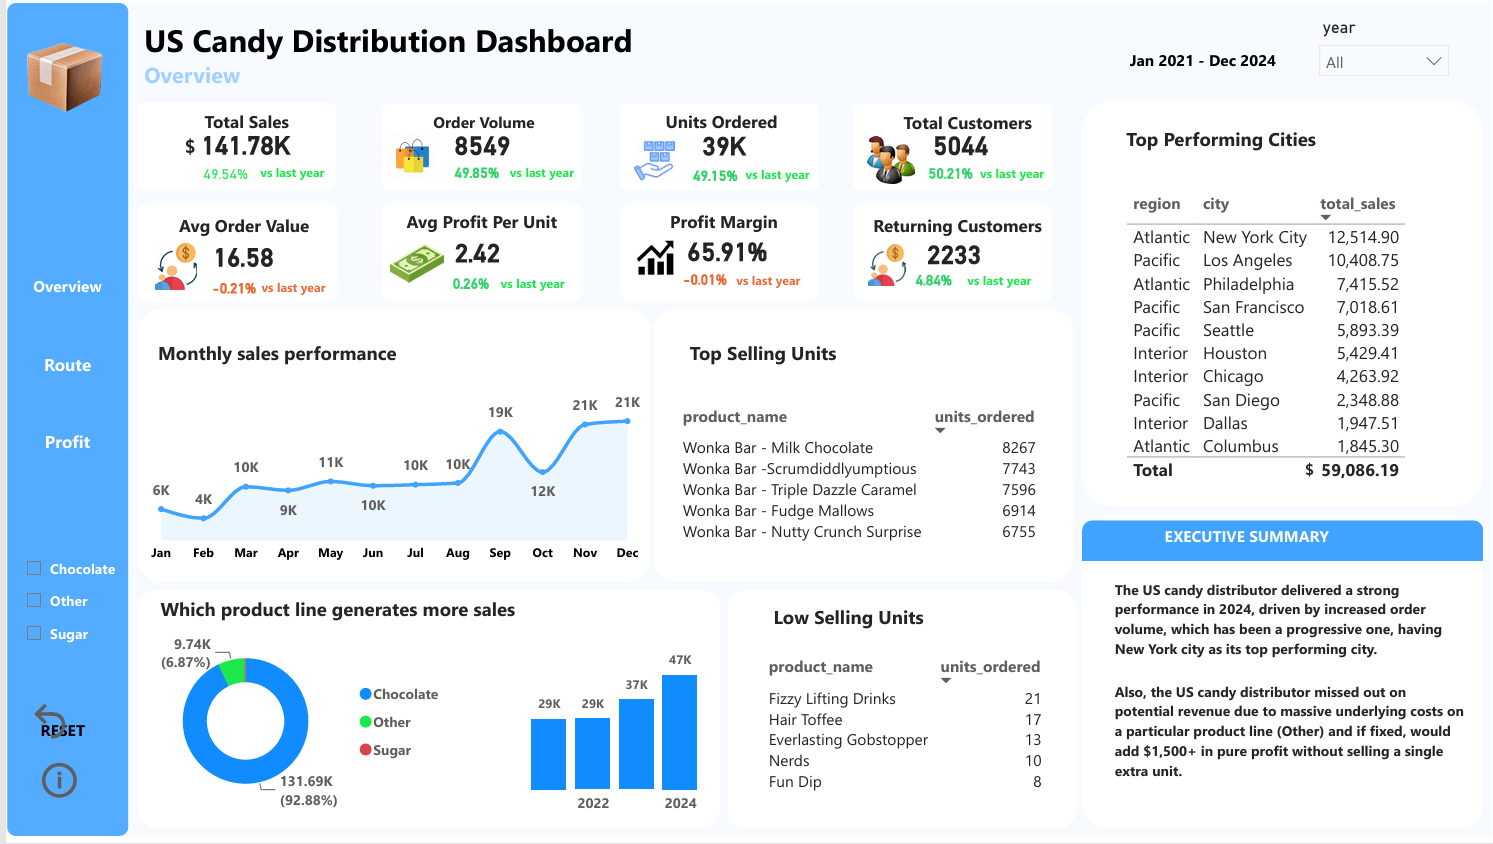

Layout of this report page (visuals, bound fields, positions):
{"tool":"powerbi","page":{"name":"Overview","canvas":[1280,720],"ordinal":0},"visuals":[{"type":"shape","box":[113.5,86.9,171.1,75.4],"z":0},{"type":"shape","box":[0,0,106.4,720],"z":1000},{"type":"textbox","box":[113.6,9.1,508.2,49.1],"z":2000},{"type":"textbox","box":[113.6,44.5,130,40.9],"z":3000},{"type":"shape","box":[113.6,507.3,500.9,205.5],"z":4000},{"type":"shape","box":[324.5,88.2,170.9,74.5],"z":5000},{"type":"shape","box":[528.9,88.2,170.9,74.5],"z":6000},{"type":"shape","box":[528.9,173.7,170.9,83.6],"z":7000},{"type":"shape","box":[324.5,173.7,170.9,83.6],"z":8000},{"type":"shape","box":[113.5,173.7,170.9,83.6],"z":9000},{"type":"shape","box":[729.8,88.2,170.9,74.5],"z":10000},{"type":"shape","box":[729.8,173.7,170.9,83.6],"z":11000},{"type":"shape","box":[927.3,85.5,345.5,350],"z":12000},{"type":"shape","box":[927.3,446.4,345.5,266.4],"z":13000},{"type":"shape","box":[621.8,507.3,300,205.5],"z":14000},{"type":"shape","box":[113.6,265.5,440.9,234.5],"z":15000},{"type":"shape","box":[558.2,265.5,360.9,234.5],"z":16000},{"type":"lineChart","fields":{"Category":["calendar.month"],"Y":["kpi.total_sales"]},"box":[113.6,304.5,440.9,187.3],"z":17000},{"type":"card","fields":{"Values":["kpi.total_sales"]},"box":[140.9,88.2,130.9,70.9],"z":18000},{"type":"card","fields":{"Values":["kpi.growth_rate"]},"box":[157.3,135.5,64.5,25.5],"z":19000},{"type":"card","fields":{"Values":["kpi.Order_volume"]},"box":[353.6,100.9,112.7,45.5],"z":20000},{"type":"card","fields":{"Values":["kpi.units_sold"]},"box":[554.5,94.5,127.3,58.2],"z":21000},{"type":"textbox","box":[166.4,88.2,121.8,46.4],"z":22000},{"type":"slicer","fields":{"Values":["calendar.year"]},"box":[1120.9,9.1,131.8,65.5],"z":23000},{"type":"textbox","box":[213.6,131.8,74.5,29.1],"z":24000},{"type":"textbox","box":[362.7,90,132.7,33.6],"z":25000},{"type":"textbox","box":[566.6,173.8,110,35.5],"z":26000},{"type":"donutChart","fields":{"Category":["dim_products.division"],"Y":["kpi.total_sales"]},"box":[103.6,539.1,282.7,161.8],"z":27000},{"type":"tableEx","fields":{"Values":["dim_products.product_name","kpi.units_ordered"]},"box":[571.8,342.7,336.4,149.1],"z":28000},{"type":"textbox","box":[583.6,287.3,178.2,33.6],"z":29000},{"type":"card","fields":{"Values":["problem_statement.avg_profit_per_unit"]},"box":[339.6,195.1,132.1,42.6],"z":30000},{"type":"card","fields":{"Values":["problem_statement.profit_margin"]},"box":[568.4,188.9,106.4,52.3],"z":31000},{"type":"card","fields":{"Values":["kpi.Total_customer"]},"box":[772.3,105.5,100.2,35.5],"z":32000},{"type":"card","fields":{"Values":["kpi.aov"]},"box":[144,189,121,62],"z":33000},{"type":"tableEx","fields":{"Values":["dim_products.product_name","kpi.units_ordered"]},"box":[646.4,559.1,272.7,131.8],"z":34000},{"type":"textbox","box":[656.4,513.6,178.2,33.6],"z":35000},{"type":"textbox","box":[767.9,88.7,133,35.5],"z":36000},{"type":"textbox","box":[143.6,177.3,141,35.5],"z":37000},{"type":"textbox","box":[563.1,87.8,110,35.5],"z":38000},{"type":"textbox","box":[339.6,173.8,156.1,35.5],"z":39000},{"type":"textbox","box":[742.2,177.3,163.2,35.5],"z":40000},{"type":"tableEx","fields":{"Values":["fact_sales.region","fact_sales.city","kpi.total_sales"]},"box":[960.3,159.6,291.7,258],"z":41000},{"type":"textbox","box":[960.3,102,178.2,33.7],"z":42000},{"type":"textbox","box":[128.2,507.3,320,63.6],"z":43000},{"type":"columnChart","fields":{"Category":["calendar.year"],"Y":["kpi.total_sales"]},"box":[448.2,539.1,152.7,170],"z":44000},{"type":"textbox","box":[126.4,287.3,248.2,55.5],"z":45000},{"type":"slicer","fields":{"Values":["dim_products.division"]},"box":[4.5,469.1,97.3,110.9],"z":46000},{"type":"actionButton","box":[26.4,650.9,53.6,40],"z":47000},{"type":"textbox","box":[950,491.8,311.8,101.8],"z":48000},{"type":"textbox","box":[950,580,311.8,101.8],"z":49000},{"type":"shape","box":[927.3,447.3,345.5,35.5],"z":50000},{"type":"textbox","box":[992.7,447.3,194.5,35.5],"z":51000},{"type":"pageNavigator","box":[8.2,216.4,90.9,193.6],"z":52000},{"type":"textbox","box":[149.1,108.2,33.6,33.6],"z":53000},{"type":"textbox","box":[1113.6,389.1,33.6,28.2],"z":54000},{"type":"card","fields":{"Values":["kpi.aov perchange"]},"box":[164,233,65,31],"z":55000},{"type":"card","fields":{"Values":["kpi.ov pct_change"]},"box":[368,129,75,40],"z":56000},{"type":"card","fields":{"Values":["kpi.unit_ordered_pct_change"]},"box":[573,136,76,23],"z":57000},{"type":"card","fields":{"Values":["kpi.customer_pct_change"]},"box":[779,129,69,41],"z":58000},{"type":"card","fields":{"Values":["kpi.avg_profit_pct_change"]},"box":[364,231,73,27],"z":59000},{"type":"card","fields":{"Values":["kpi.profit_margin_pct_change"]},"box":[572,224,60,34],"z":60000},{"type":"textbox","box":[429,132,67,29],"z":61000},{"type":"textbox","box":[421,228,74,29],"z":62000},{"type":"textbox","box":[215,231,74,29],"z":63000},{"type":"textbox","box":[632,134,66,29],"z":64000},{"type":"textbox","box":[624,225,74,29],"z":65000},{"type":"textbox","box":[834,133,74,29],"z":66000},{"type":"image","box":[325.8,112.8,48.6,39.9],"z":67000},{"type":"image","box":[127.3,208.2,40,40],"z":68000},{"type":"image","box":[537.9,118.7,40.9,36],"z":69000},{"type":"image","box":[326.8,209.1,53.5,33.1],"z":70000},{"type":"image","box":[742.1,112.8,40.9,46.7],"z":71000},{"type":"card","fields":{"Values":["kpi.returning_customers"]},"box":[767,199.5,99.3,35.5],"z":72000},{"type":"textbox","box":[822.9,225.2,73.6,29.3],"z":73000},{"type":"card","fields":{"Values":["kpi.returning customer perctent"]},"box":[760.8,226.1,76.3,23.1],"z":74000},{"type":"image","box":[539.1,203.1,39.9,34.6],"z":75000},{"type":"image","box":[7.1,25.7,91.3,77.1],"z":76000},{"type":"textbox","box":[962.7,36.4,143.6,28.2],"z":77000},{"type":"image","box":[739.1,209.1,40,36.4],"z":78000},{"type":"actionButton","box":[18.2,600,61.8,40],"z":78001}]}

Visuals, with their boxes on the page's 1280x720 design canvas (x1, y1, x2, y2). These are canvas units, not pixel positions in the 1493x844 screenshot, which may show the page scaled, cropped or inside an application window:
shape: x1=114 y1=87 x2=285 y2=162
shape: x1=0 y1=0 x2=106 y2=720
textbox: x1=114 y1=9 x2=622 y2=58
textbox: x1=114 y1=44 x2=244 y2=85
shape: x1=114 y1=507 x2=614 y2=713
shape: x1=324 y1=88 x2=495 y2=163
shape: x1=529 y1=88 x2=700 y2=163
shape: x1=529 y1=174 x2=700 y2=257
shape: x1=324 y1=174 x2=495 y2=257
shape: x1=114 y1=174 x2=284 y2=257
shape: x1=730 y1=88 x2=901 y2=163
shape: x1=730 y1=174 x2=901 y2=257
shape: x1=927 y1=86 x2=1273 y2=436
shape: x1=927 y1=446 x2=1273 y2=713
shape: x1=622 y1=507 x2=922 y2=713
shape: x1=114 y1=266 x2=554 y2=500
shape: x1=558 y1=266 x2=919 y2=500
lineChart - calendar.month x kpi.total_sales: x1=114 y1=304 x2=554 y2=492
card - kpi.total_sales: x1=141 y1=88 x2=272 y2=159
card - kpi.growth_rate: x1=157 y1=136 x2=222 y2=161
card - kpi.Order_volume: x1=354 y1=101 x2=466 y2=146
card - kpi.units_sold: x1=554 y1=94 x2=682 y2=153
textbox: x1=166 y1=88 x2=288 y2=135
slicer - calendar.year: x1=1121 y1=9 x2=1253 y2=75
textbox: x1=214 y1=132 x2=288 y2=161
textbox: x1=363 y1=90 x2=495 y2=124
textbox: x1=567 y1=174 x2=677 y2=209
donutChart - dim_products.division x kpi.total_sales: x1=104 y1=539 x2=386 y2=701
tableEx - dim_products.product_name x kpi.units_ordered: x1=572 y1=343 x2=908 y2=492
textbox: x1=584 y1=287 x2=762 y2=321
card - problem_statement.avg_profit_per_unit: x1=340 y1=195 x2=472 y2=238
card - problem_statement.profit_margin: x1=568 y1=189 x2=675 y2=241
card - kpi.Total_customer: x1=772 y1=106 x2=872 y2=141
card - kpi.aov: x1=144 y1=189 x2=265 y2=251
tableEx - dim_products.product_name x kpi.units_ordered: x1=646 y1=559 x2=919 y2=691
textbox: x1=656 y1=514 x2=835 y2=547
textbox: x1=768 y1=89 x2=901 y2=124
textbox: x1=144 y1=177 x2=285 y2=213
textbox: x1=563 y1=88 x2=673 y2=123
textbox: x1=340 y1=174 x2=496 y2=209
textbox: x1=742 y1=177 x2=905 y2=213
tableEx - fact_sales.region x fact_sales.city: x1=960 y1=160 x2=1252 y2=418
textbox: x1=960 y1=102 x2=1138 y2=136
textbox: x1=128 y1=507 x2=448 y2=571
columnChart - calendar.year x kpi.total_sales: x1=448 y1=539 x2=601 y2=709
textbox: x1=126 y1=287 x2=375 y2=343
slicer - dim_products.division: x1=4 y1=469 x2=102 y2=580
actionButton: x1=26 y1=651 x2=80 y2=691
textbox: x1=950 y1=492 x2=1262 y2=594
textbox: x1=950 y1=580 x2=1262 y2=682
shape: x1=927 y1=447 x2=1273 y2=483
textbox: x1=993 y1=447 x2=1187 y2=483
pageNavigator: x1=8 y1=216 x2=99 y2=410
textbox: x1=149 y1=108 x2=183 y2=142
textbox: x1=1114 y1=389 x2=1147 y2=417
card - kpi.aov perchange: x1=164 y1=233 x2=229 y2=264
card - kpi.ov pct_change: x1=368 y1=129 x2=443 y2=169
card - kpi.unit_ordered_pct_change: x1=573 y1=136 x2=649 y2=159
card - kpi.customer_pct_change: x1=779 y1=129 x2=848 y2=170
card - kpi.avg_profit_pct_change: x1=364 y1=231 x2=437 y2=258
card - kpi.profit_margin_pct_change: x1=572 y1=224 x2=632 y2=258
textbox: x1=429 y1=132 x2=496 y2=161
textbox: x1=421 y1=228 x2=495 y2=257
textbox: x1=215 y1=231 x2=289 y2=260
textbox: x1=632 y1=134 x2=698 y2=163
textbox: x1=624 y1=225 x2=698 y2=254
textbox: x1=834 y1=133 x2=908 y2=162
image: x1=326 y1=113 x2=374 y2=153
image: x1=127 y1=208 x2=167 y2=248
image: x1=538 y1=119 x2=579 y2=155
image: x1=327 y1=209 x2=380 y2=242
image: x1=742 y1=113 x2=783 y2=160
card - kpi.returning_customers: x1=767 y1=200 x2=866 y2=235
textbox: x1=823 y1=225 x2=896 y2=254
card - kpi.returning customer perctent: x1=761 y1=226 x2=837 y2=249
image: x1=539 y1=203 x2=579 y2=238
image: x1=7 y1=26 x2=98 y2=103
textbox: x1=963 y1=36 x2=1106 y2=65
image: x1=739 y1=209 x2=779 y2=246
actionButton: x1=18 y1=600 x2=80 y2=640
